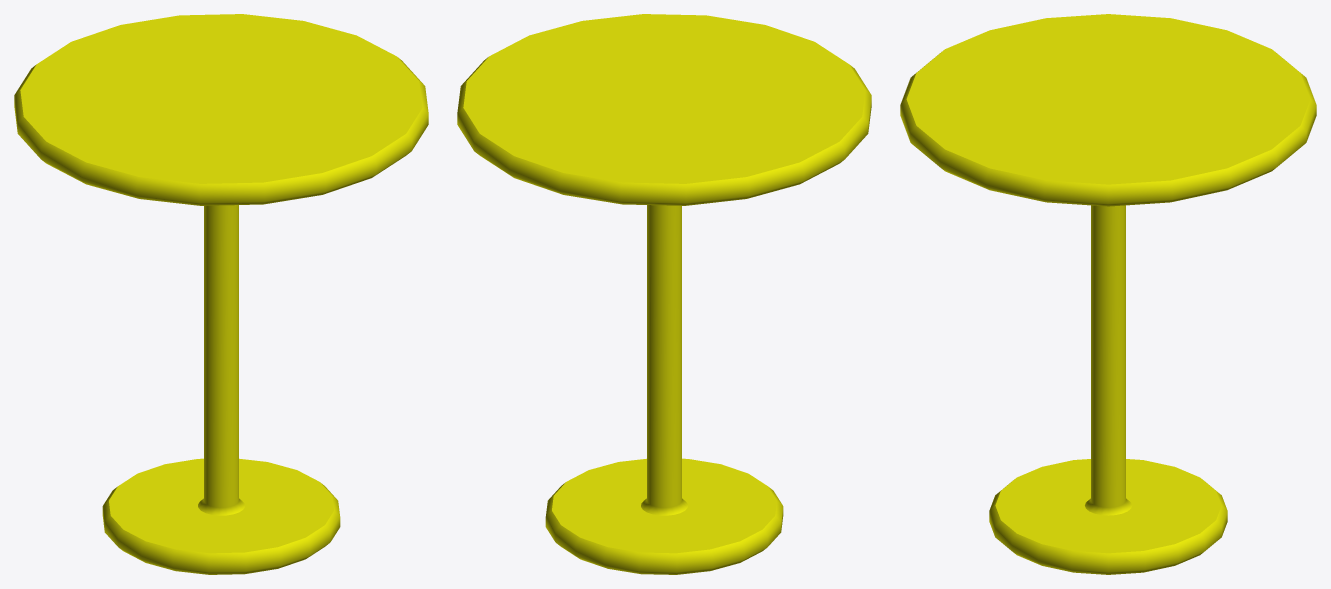
The picture shows the model from 3 angles, left to right: view 1: azimuth 30°, elevation 25°; view 2: azimuth 150°, elevation 25°; view 3: azimuth 270°, elevation 25°; orthographic projection.
Visible parts, largest first — view 1: table; view 2: table; view 3: table.
Boxes of the visible parts, x1=… form: table: x1=14, y1=14, x2=428, y2=574; table: x1=457, y1=14, x2=871, y2=574; table: x1=900, y1=14, x2=1316, y2=574.
Bounding box in the file's own units: 0.0807 × 0.0915 × 0.0807.
Materials: 1 (1 with a texture image).
